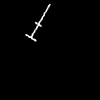double_crochet: (26, 4, 49, 40)
